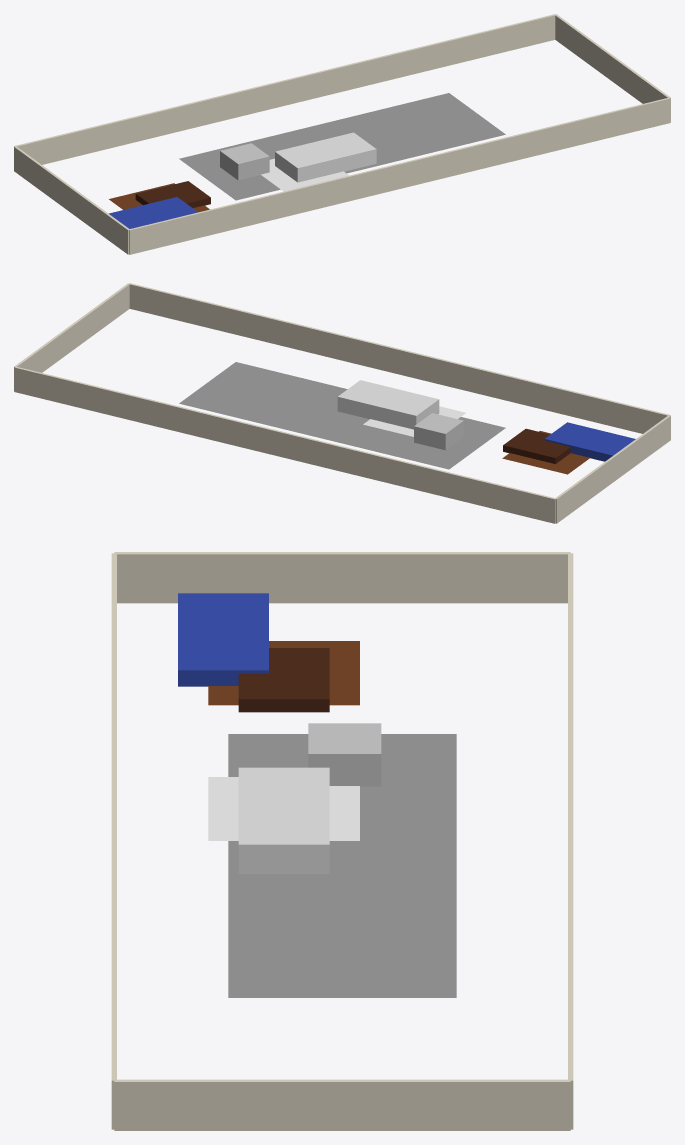
File: boq_professional_aa990155-77a1-414a-a1fa-4fa492dfba6c.obj
3 renders of one model, top to bottom at view 1: azimuth 30°, elevation 25°; view 2: azimuth 150°, elevation 25°; view 3: azimuth 270°, elevation 25°, orthographic. The views are drawn at different scales.
Visible parts, largest first — view 1: ExteriorWall_South, ExteriorWall_North, Foundation, Counter_kitchen_3, ExteriorWall_West, ExteriorWall_East, Sofa_living_room_1, Fridge_kitchen_3, CoffeeTable_living_room_1, Floor_kitchen_3, Floor_living_room_1; view 2: ExteriorWall_North, ExteriorWall_South, Foundation, Counter_kitchen_3, ExteriorWall_West, ExteriorWall_East, Sofa_living_room_1, CoffeeTable_living_room_1, Fridge_kitchen_3, Floor_living_room_1, Floor_kitchen_3; view 3: Foundation, ExteriorWall_East, ExteriorWall_West, Counter_kitchen_3, Sofa_living_room_1, CoffeeTable_living_room_1, Fridge_kitchen_3, Floor_kitchen_3, ExteriorWall_North, ExteriorWall_South, Floor_living_room_1.
Boxes of the visible parts, <box> form: ExteriorWall_South: <box>129,97,670,254</box>; ExteriorWall_North: <box>14,14,555,164</box>; Foundation: <box>179,93,505,200</box>; Counter_kitchen_3: <box>275,132,376,182</box>; ExteriorWall_West: <box>14,146,129,254</box>; ExteriorWall_East: <box>555,14,670,121</box>; Sofa_living_room_1: <box>109,197,197,228</box>; Fridge_kitchen_3: <box>220,143,269,180</box>; CoffeeTable_living_room_1: <box>135,181,210,207</box>; Floor_kitchen_3: <box>261,158,348,191</box>; Floor_living_room_1: <box>109,183,209,212</box>; ExteriorWall_North: <box>14,366,555,523</box>; ExteriorWall_South: <box>129,283,670,433</box>; Foundation: <box>179,362,505,469</box>; Counter_kitchen_3: <box>337,380,439,429</box>; ExteriorWall_West: <box>555,415,670,523</box>; ExteriorWall_East: <box>14,283,129,390</box>; Sofa_living_room_1: <box>544,422,635,461</box>; CoffeeTable_living_room_1: <box>503,428,570,463</box>; Fridge_kitchen_3: <box>414,413,463,450</box>; Floor_living_room_1: <box>502,431,589,474</box>; Floor_kitchen_3: <box>363,406,465,436</box>; Foundation: <box>228,734,456,997</box>; ExteriorWall_East: <box>114,1079,570,1130</box>; ExteriorWall_West: <box>114,552,570,603</box>; Counter_kitchen_3: <box>238,767,329,873</box>; Sofa_living_room_1: <box>178,593,268,686</box>; CoffeeTable_living_room_1: <box>238,648,329,712</box>; Fridge_kitchen_3: <box>308,723,381,786</box>; Floor_kitchen_3: <box>208,777,359,840</box>; ExteriorWall_North: <box>568,553,573,1129</box>; ExteriorWall_South: <box>111,553,116,1129</box>; Floor_living_room_1: <box>208,641,359,705</box>.
Bounding box in the file's own units: 69.58 × 3 × 25.62.
